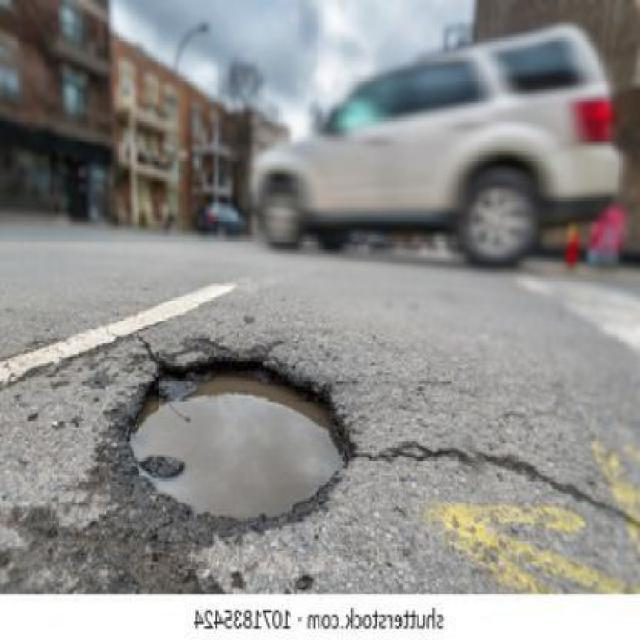pothole: (121, 348, 355, 524)
